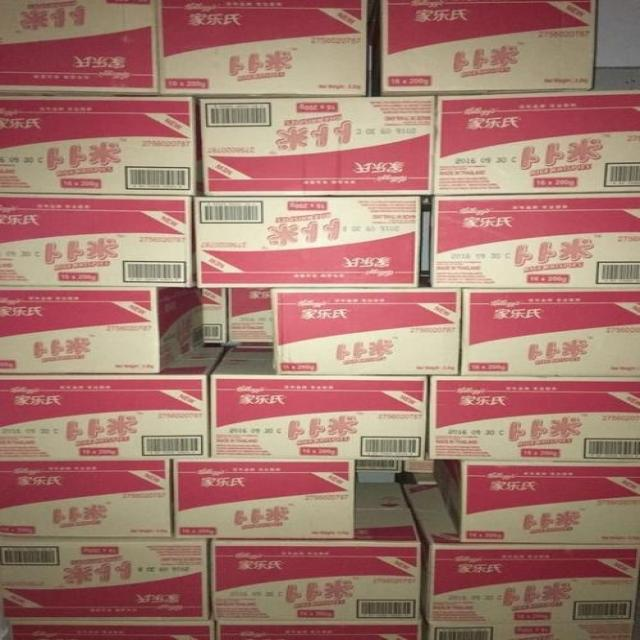box: (403, 486, 639, 621), (212, 482, 422, 621), (0, 344, 225, 460), (207, 347, 428, 459), (202, 95, 438, 198), (433, 90, 640, 194), (381, 0, 600, 97), (195, 195, 422, 288), (159, 0, 374, 96), (0, 95, 204, 196), (429, 193, 640, 288), (0, 193, 195, 288), (0, 287, 207, 374), (429, 376, 640, 461), (0, 535, 211, 620), (431, 460, 640, 544), (270, 288, 461, 375), (461, 288, 640, 376), (0, 0, 161, 95), (173, 458, 356, 538), (0, 457, 173, 537), (215, 619, 425, 640), (425, 620, 634, 640), (6, 620, 215, 639), (228, 288, 273, 343), (202, 289, 228, 345), (357, 460, 403, 471), (403, 460, 433, 472)
